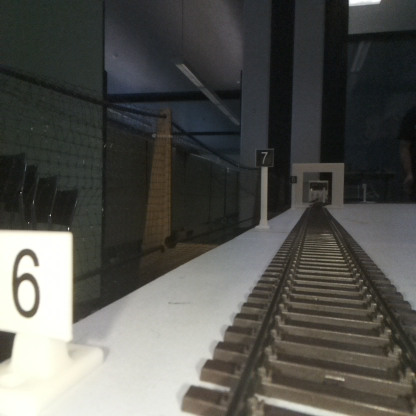black-info-7: (256, 148, 274, 228)
